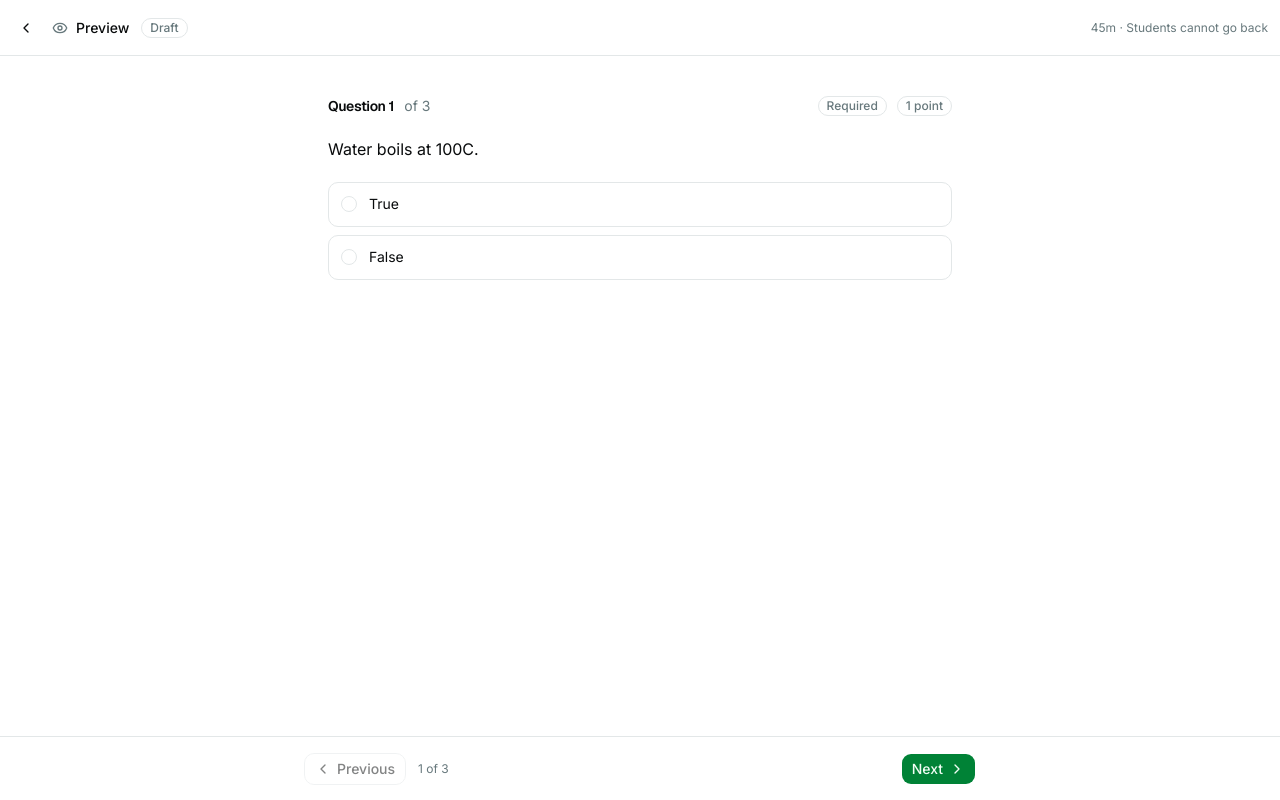
one question per page › still lets the teacher go back when the quiz forbids it
Click the button "Next" at point(938, 768), box [901, 752, 976, 784]
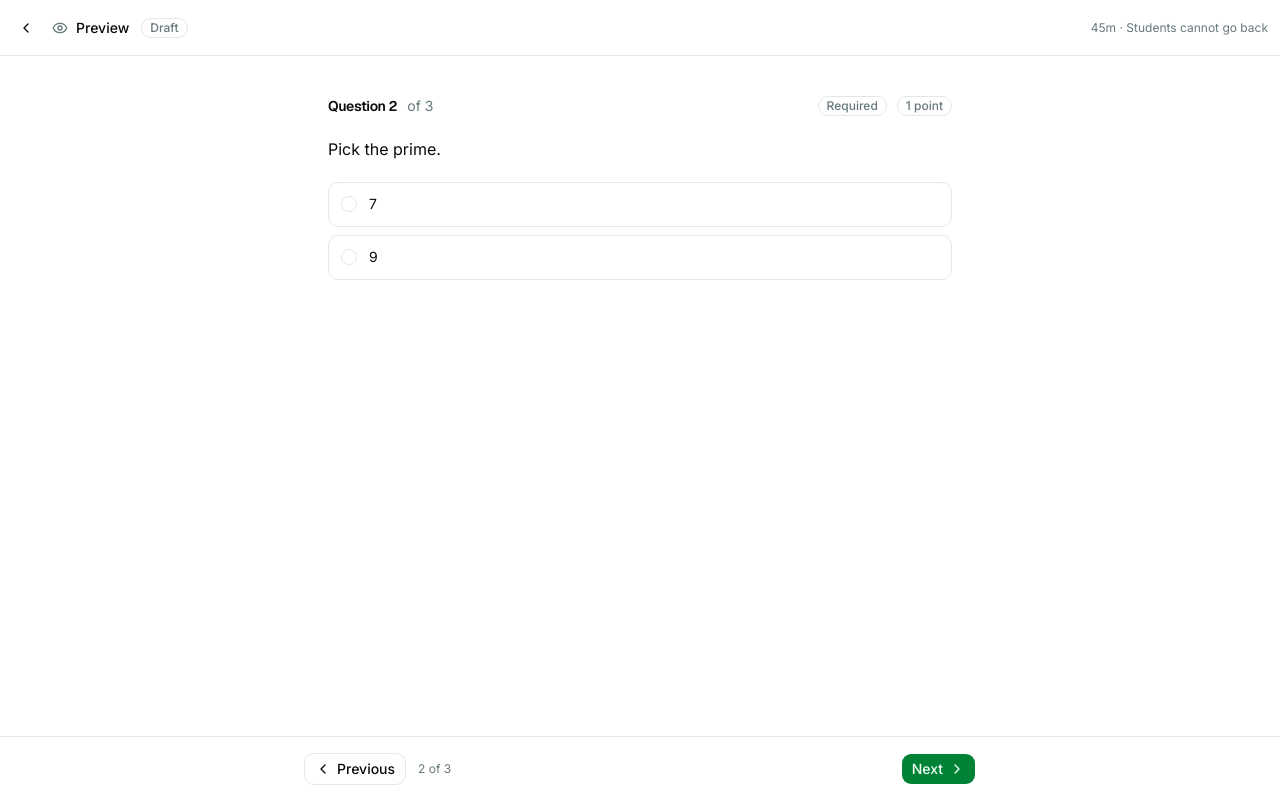
Now the button "Previous" is enabled
Click the button "Previous" at point(355, 768), box [304, 752, 406, 784]
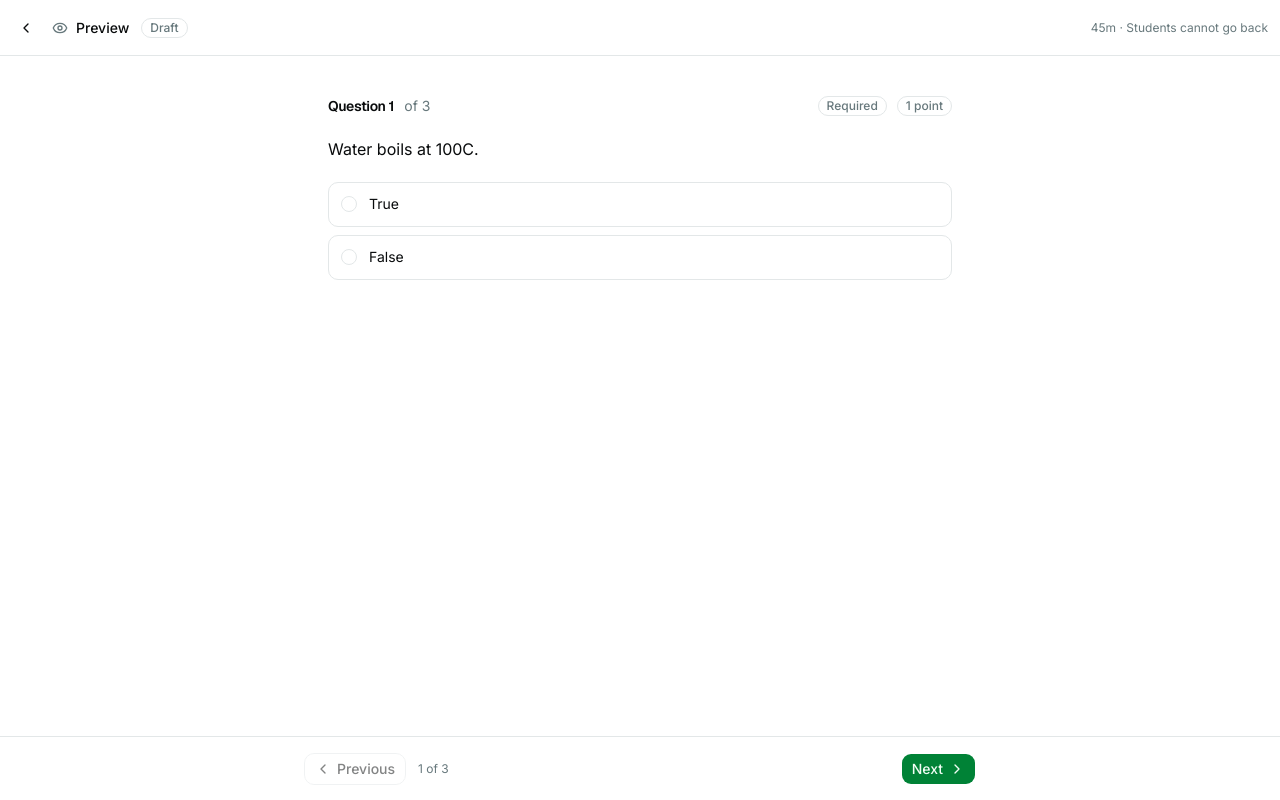
Expected: the text "Students cannot go back" is shown, [1126, 20, 1268, 34]
Now the text "1 of" is shown, box [328, 96, 952, 116]
